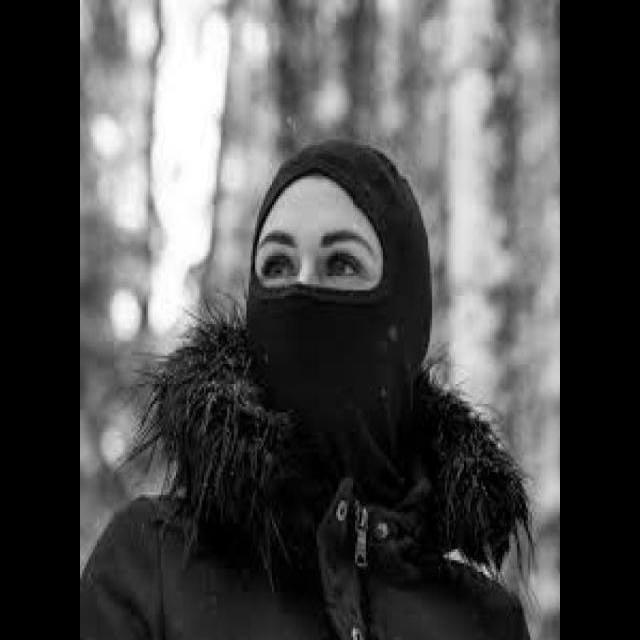6_pasamontana: (246, 140, 435, 500)
